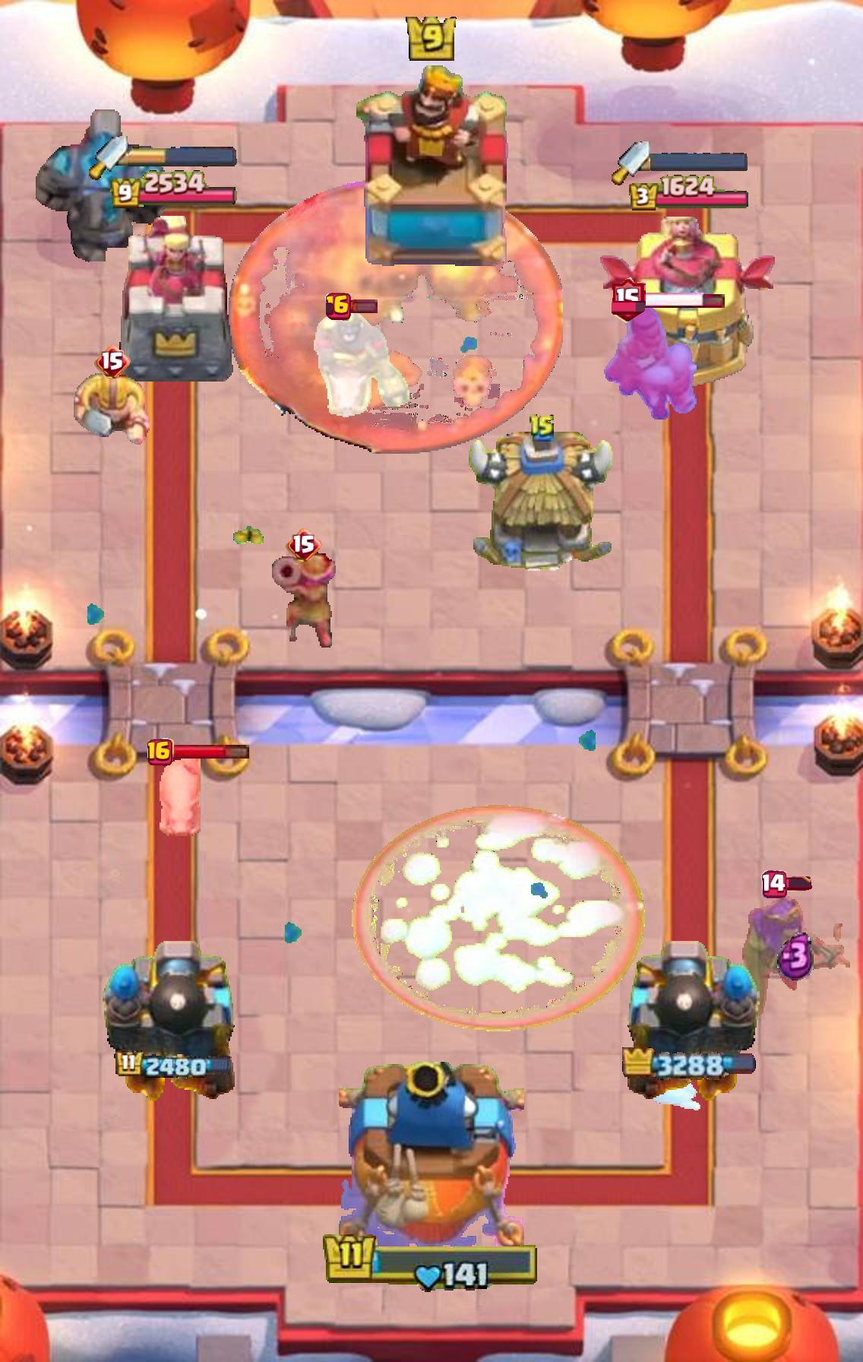bar: (777, 931, 815, 981)
bar-level: (272, 543, 336, 650)
